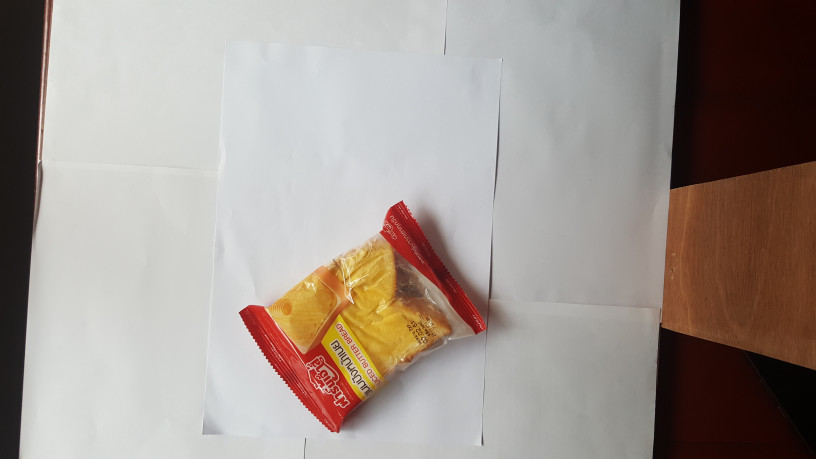farmhouse-bread-butter: (230, 201, 493, 437)
